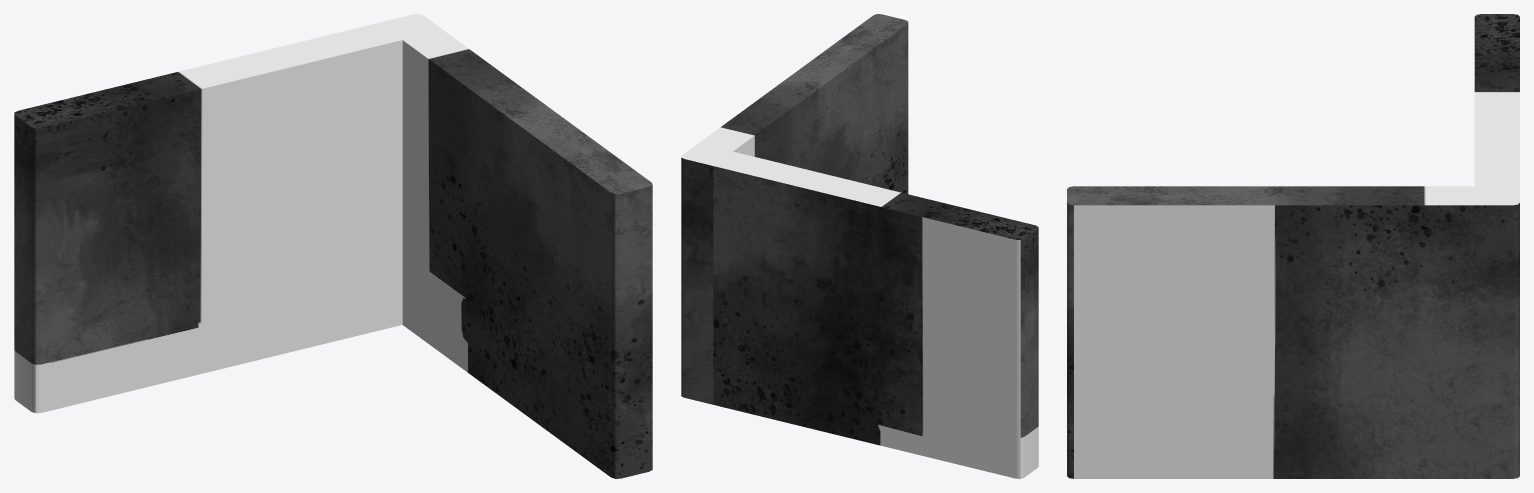
The model's file is MR_Corner_L_Tex.fbx.
3 views of the same model, side by side, from view 1: azimuth 30°, elevation 25°; view 2: azimuth 150°, elevation 25°; view 3: azimuth 270°, elevation 25° (orthographic). The views are drawn at different scales.
Visible parts, largest first — view 1: pasted__pasted__M_Wall_Single; view 2: pasted__pasted__M_Wall_Single; view 3: pasted__pasted__M_Wall_Single.
Part boxes in pixels (<box>): pasted__pasted__M_Wall_Single: <box>14,14,652,478</box>; pasted__pasted__M_Wall_Single: <box>681,14,1038,478</box>; pasted__pasted__M_Wall_Single: <box>1067,14,1519,478</box>.
Bounding box in the file's own units: 150 × 100 × 150.
